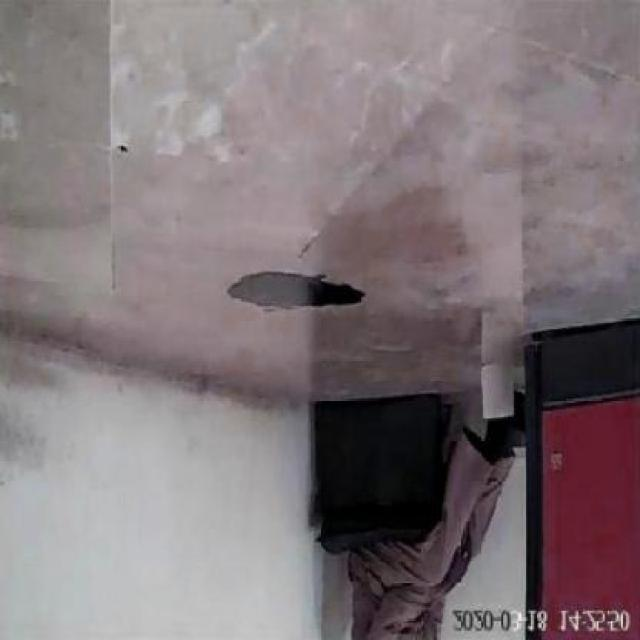spillage: (214, 273, 375, 318)
